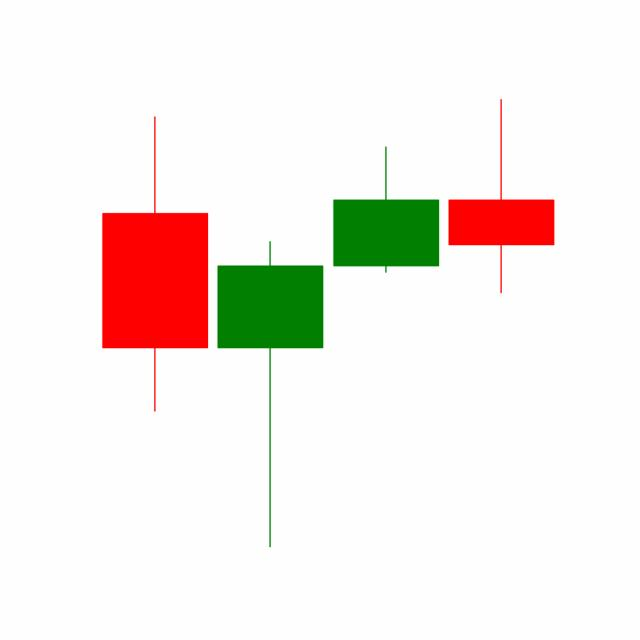Spinning Top: (443, 96, 559, 295)
